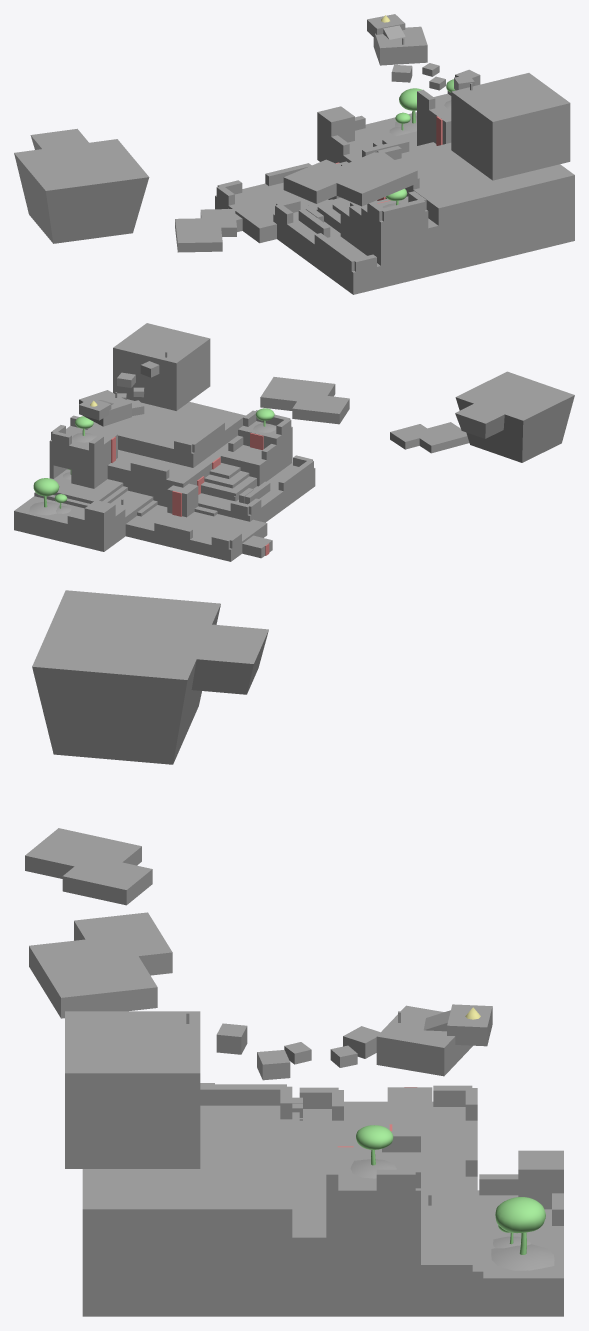
The model's file is SceneLayoutTests.fbx.
3 renders of one model, top to bottom at view 1: azimuth 30°, elevation 25°; view 2: azimuth 150°, elevation 25°; view 3: azimuth 270°, elevation 25°, orthographic. The views are drawn at different scales.
Visible parts, largest first — view 1: pCube32; view 2: pCube32; view 3: pCube32.
Part boxes in pixels (x1=…): pCube32: x1=14, y1=14, x2=574, y2=294; pCube32: x1=14, y1=323, x2=574, y2=561; pCube32: x1=25, y1=590, x2=563, y2=1316.
Size of the model in its own units: 194 by 63.8 by 104.
